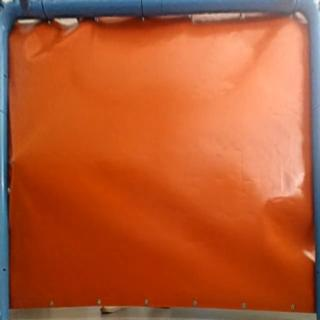Hit-hRxx: (7, 156, 16, 168)
